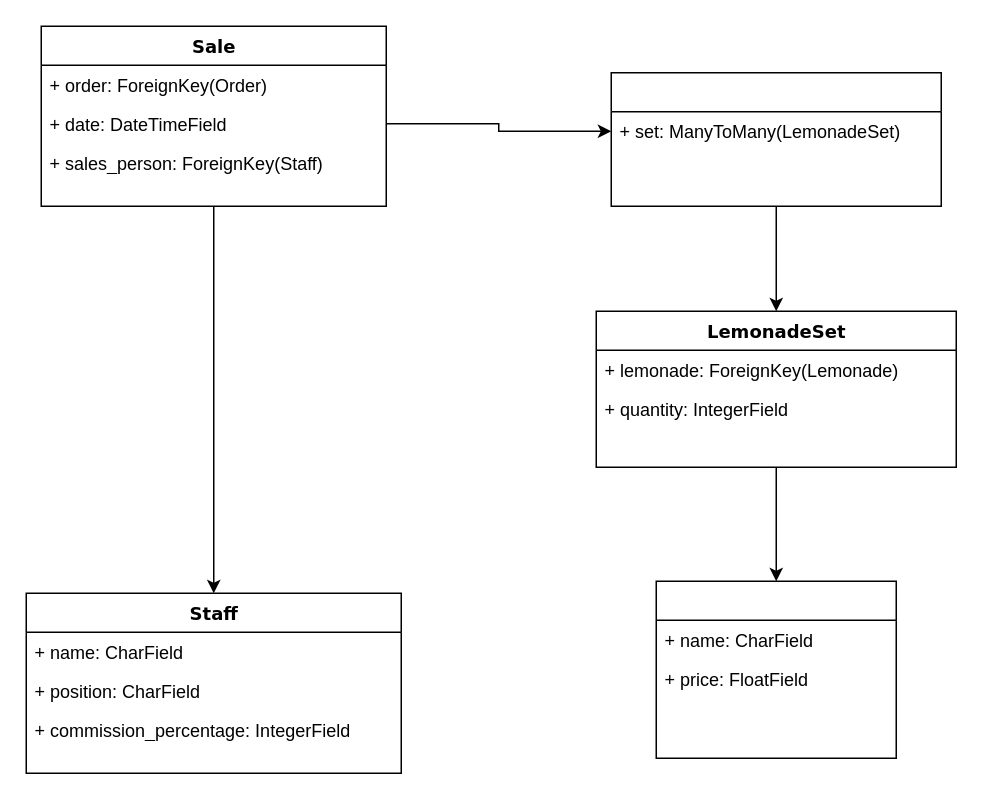
This 983x800 diagram has some shape labels left out. The shapes that lost their labels are listed below. From the top down, each one's box as (x1, y1, x2, y2) in pixels, then its label:
(610, 71, 941, 206): Order
(655, 580, 896, 758): Lemonade
